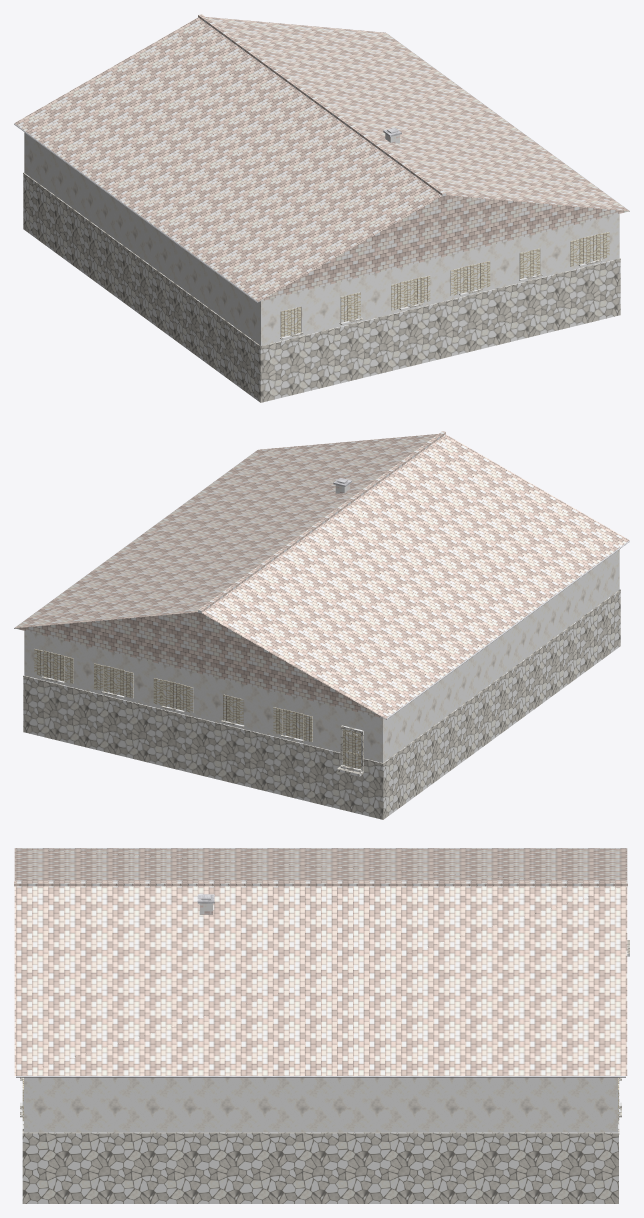
3 views of the same model, one above another, from view 1: azimuth 30°, elevation 25°; view 2: azimuth 150°, elevation 25°; view 3: azimuth 270°, elevation 25° (orthographic). The views are drawn at different scales.
Visible parts, largest first — view 1: b615242520; view 2: b615242520; view 3: b615242520.
Boxes of the visible parts, <box> form: b615242520: <box>14,14,629,402</box>; b615242520: <box>14,431,629,819</box>; b615242520: <box>14,848,629,1203</box>.
Size of the model in its own units: 20.22 by 8.76 by 23.04.
19 materials, 19 textured.
